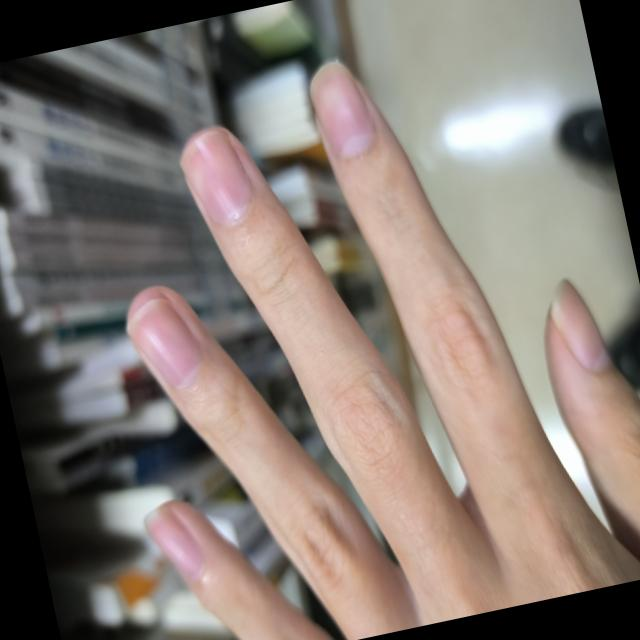Nail: (179, 129, 252, 220), (127, 297, 199, 387), (310, 61, 374, 155), (551, 278, 613, 369), (141, 506, 202, 579)
